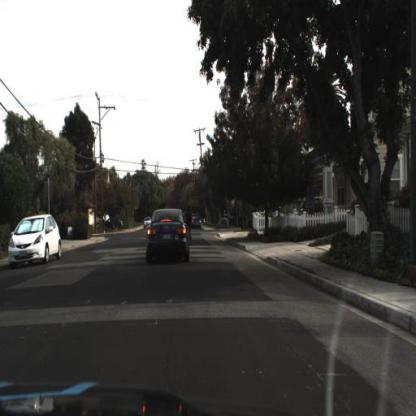biker: (185, 204, 197, 247)
car: (6, 211, 70, 274), (144, 200, 195, 268)
